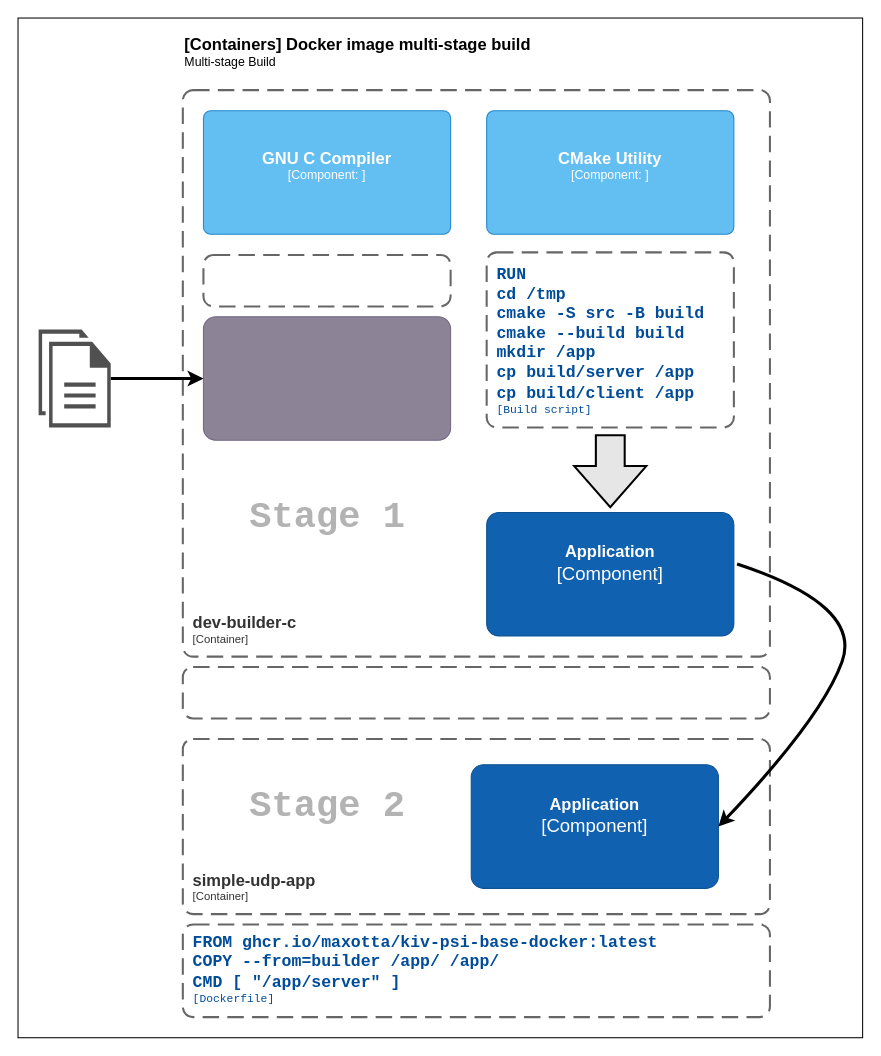
This 881x1056 diagram has some shape labels left out. The shapes that lost their labels are listed below. From the top down, each one's centre as x and y in pixels, then its label:
At pixel 326 280: "COPY src/ /tmp/src/ [Build script]".
At pixel 326 378: "Source code [Volume]".
At pixel 475 692: "FROM ghcr.io/maxotta/dev-builder-c:latest AS builder [Dockerfile]".
